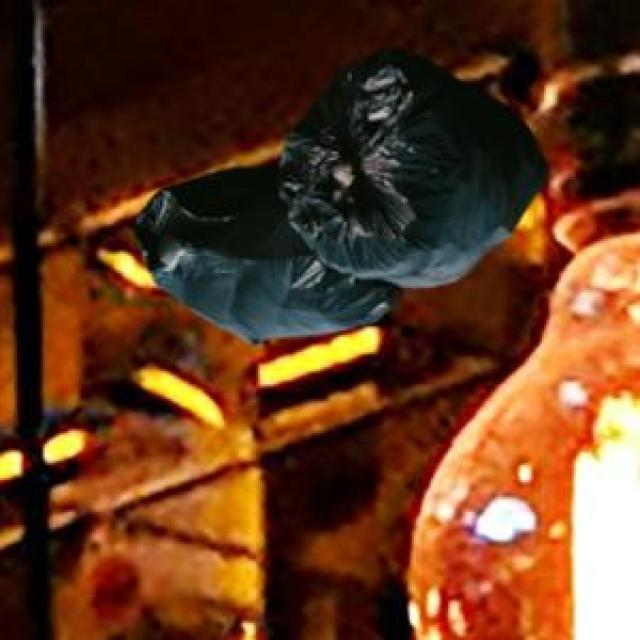Garbage_Bag: (131, 44, 545, 340)
